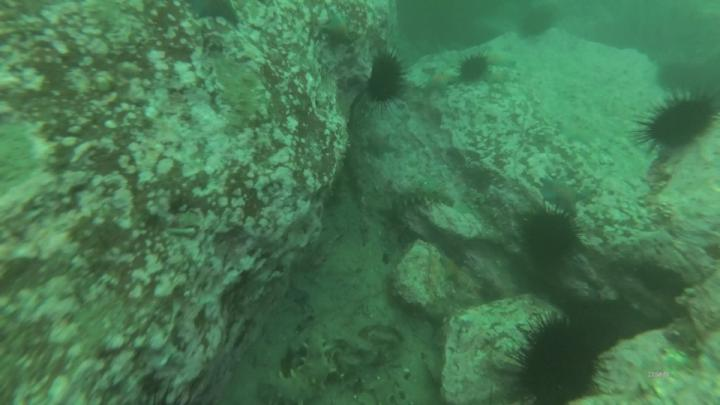echinus: (526, 325, 594, 400), (651, 95, 711, 145), (524, 214, 572, 258), (368, 56, 401, 100), (460, 56, 488, 84), (523, 14, 550, 35)
holothurian: (261, 336, 338, 405), (394, 183, 454, 212)
starfish: (543, 174, 583, 209), (425, 69, 453, 95)
